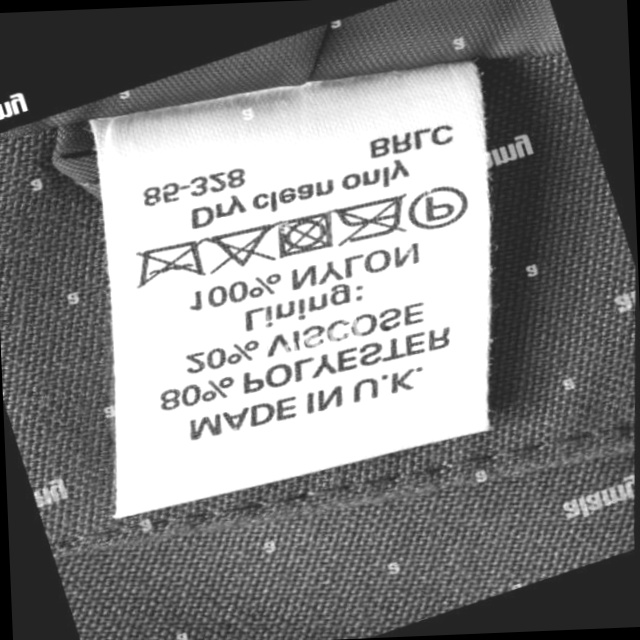DN_bleach: (210, 221, 276, 277)
DN_iron: (335, 191, 409, 250)
DN_tumble_dry: (276, 206, 336, 262)
DN_wash: (131, 234, 212, 293)
dry_clean_any_solvent_except_trichloroethylene: (405, 181, 474, 239)
